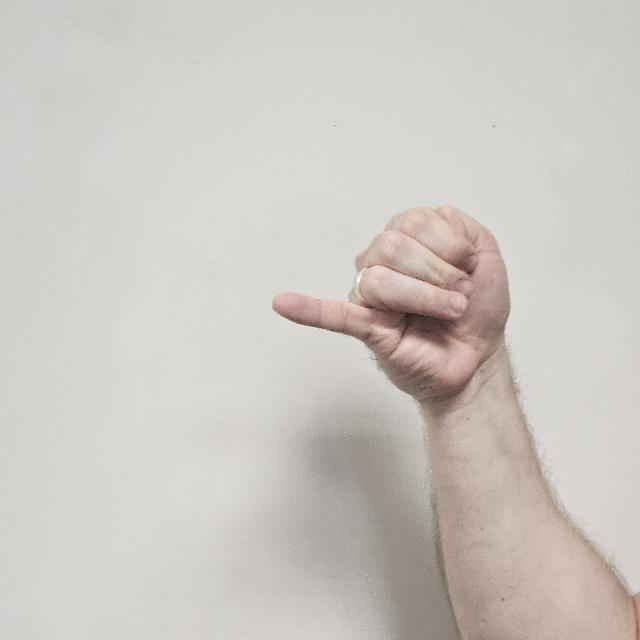Esquerda: (267, 142, 505, 420)
